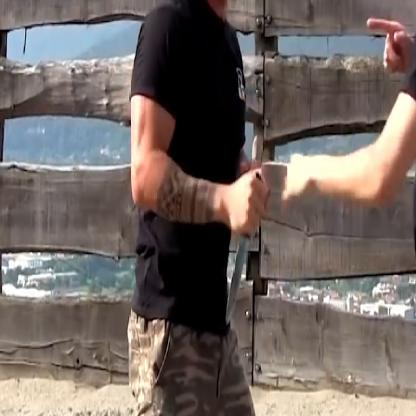knife: (219, 176, 271, 336)
